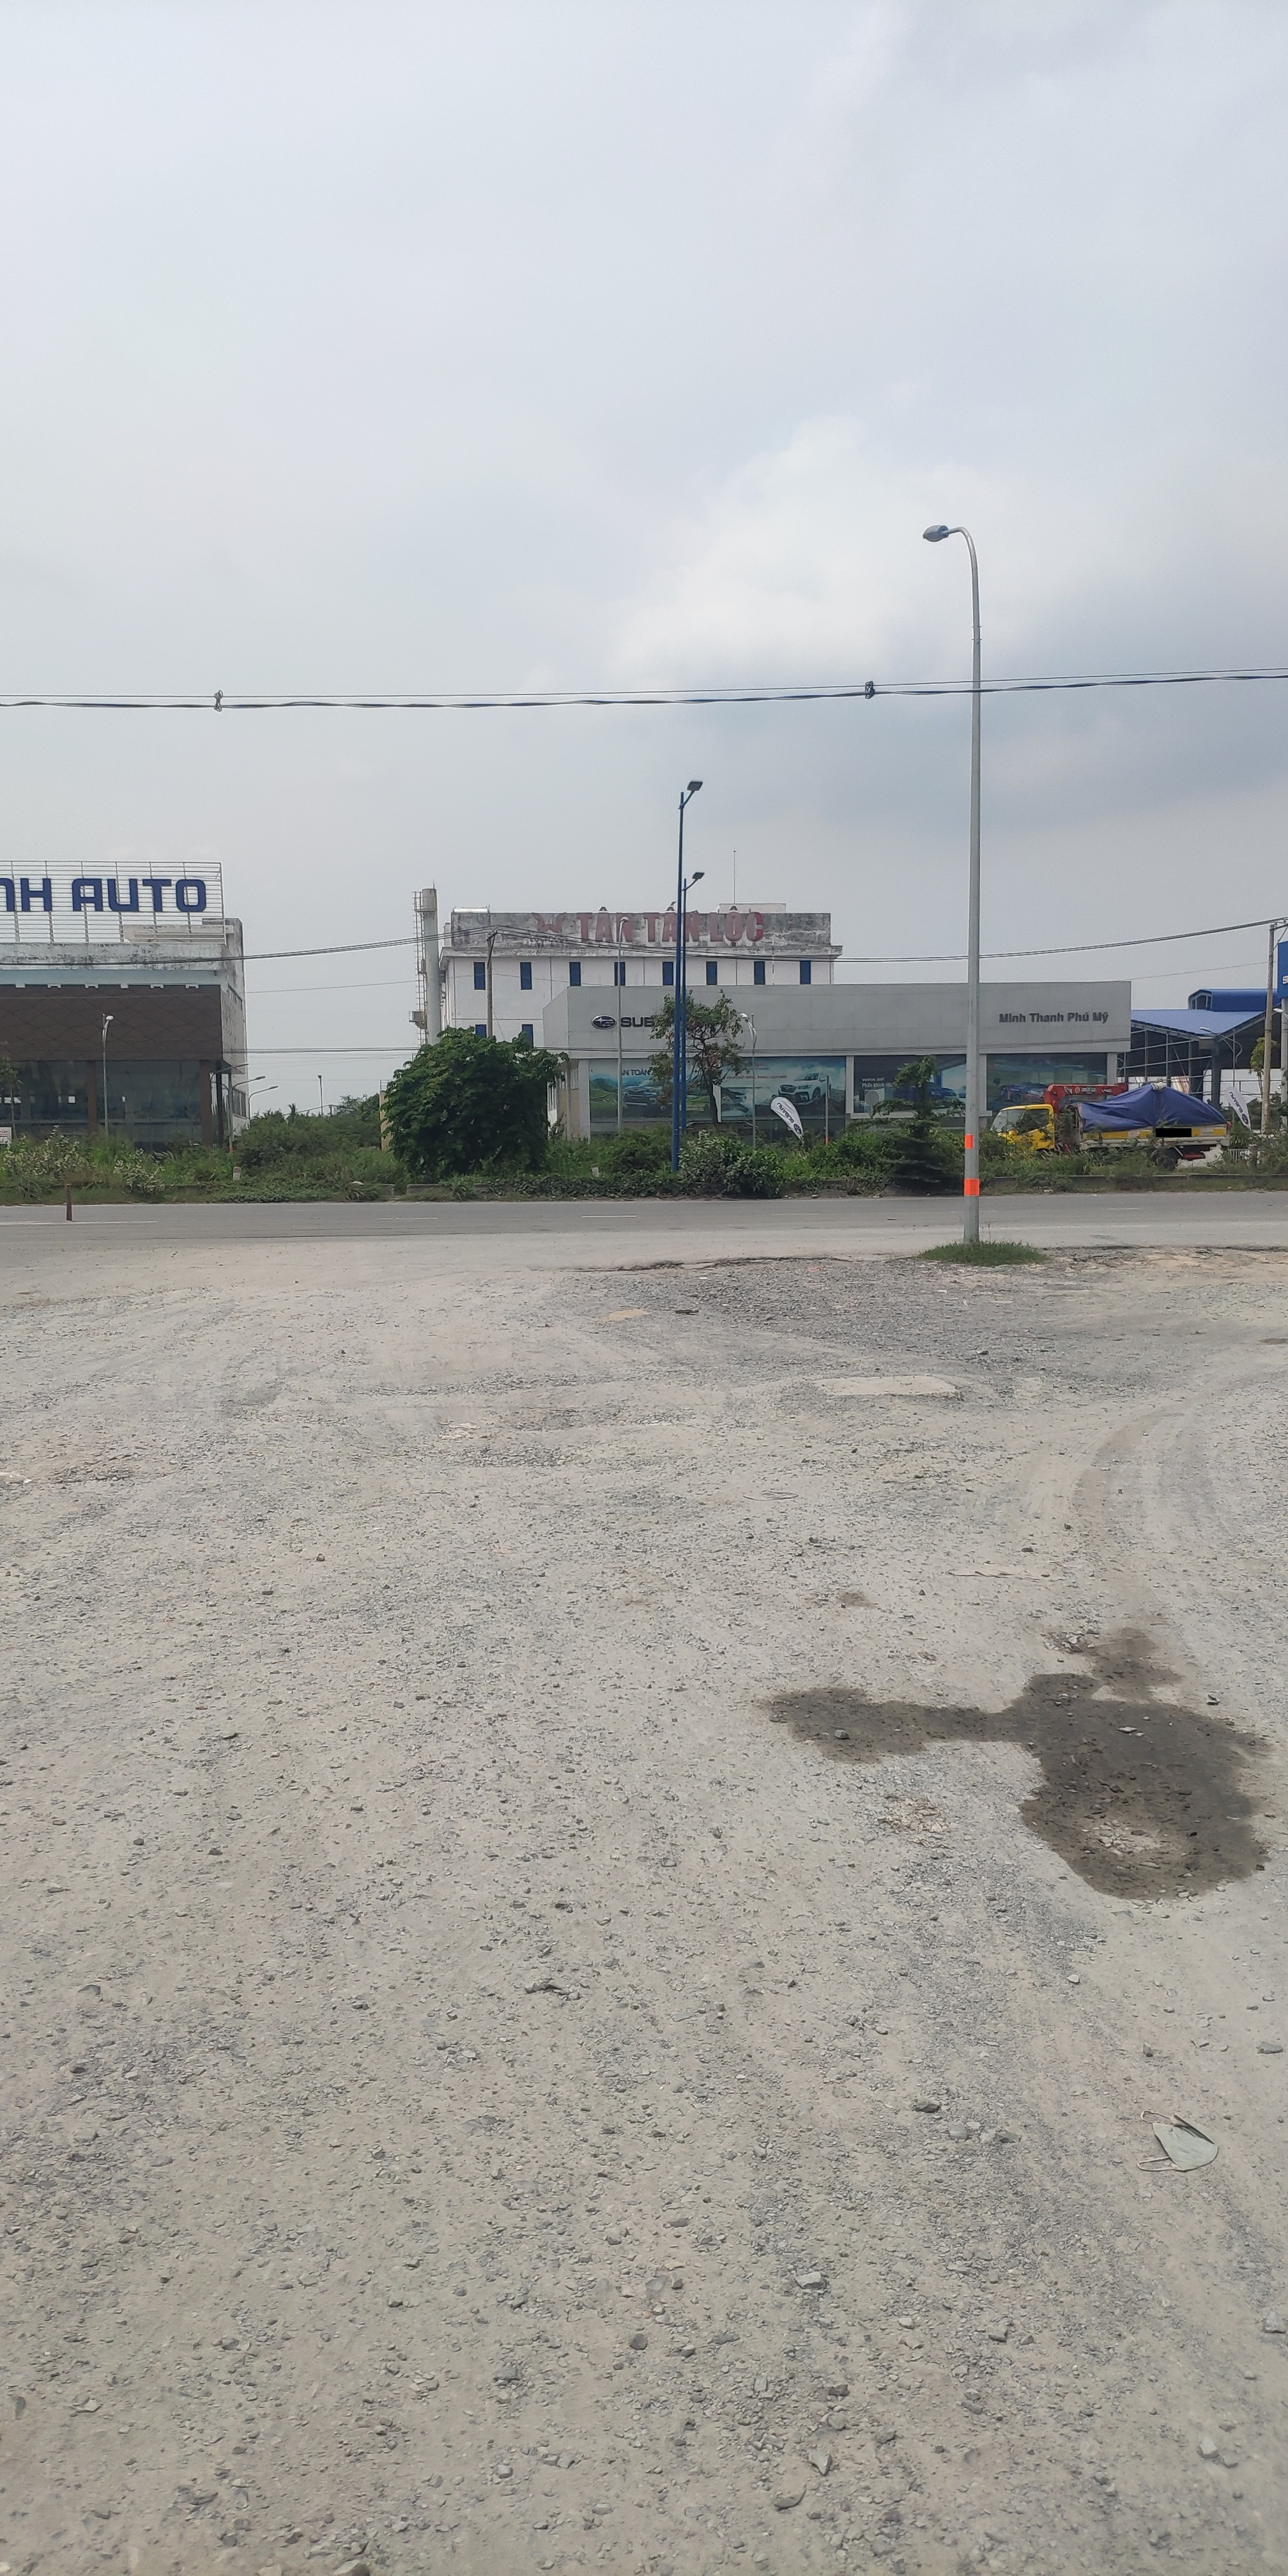hole: (1017, 1730, 1247, 1906), (347, 1360, 634, 1401), (498, 1401, 698, 1434), (450, 1439, 573, 1474)
